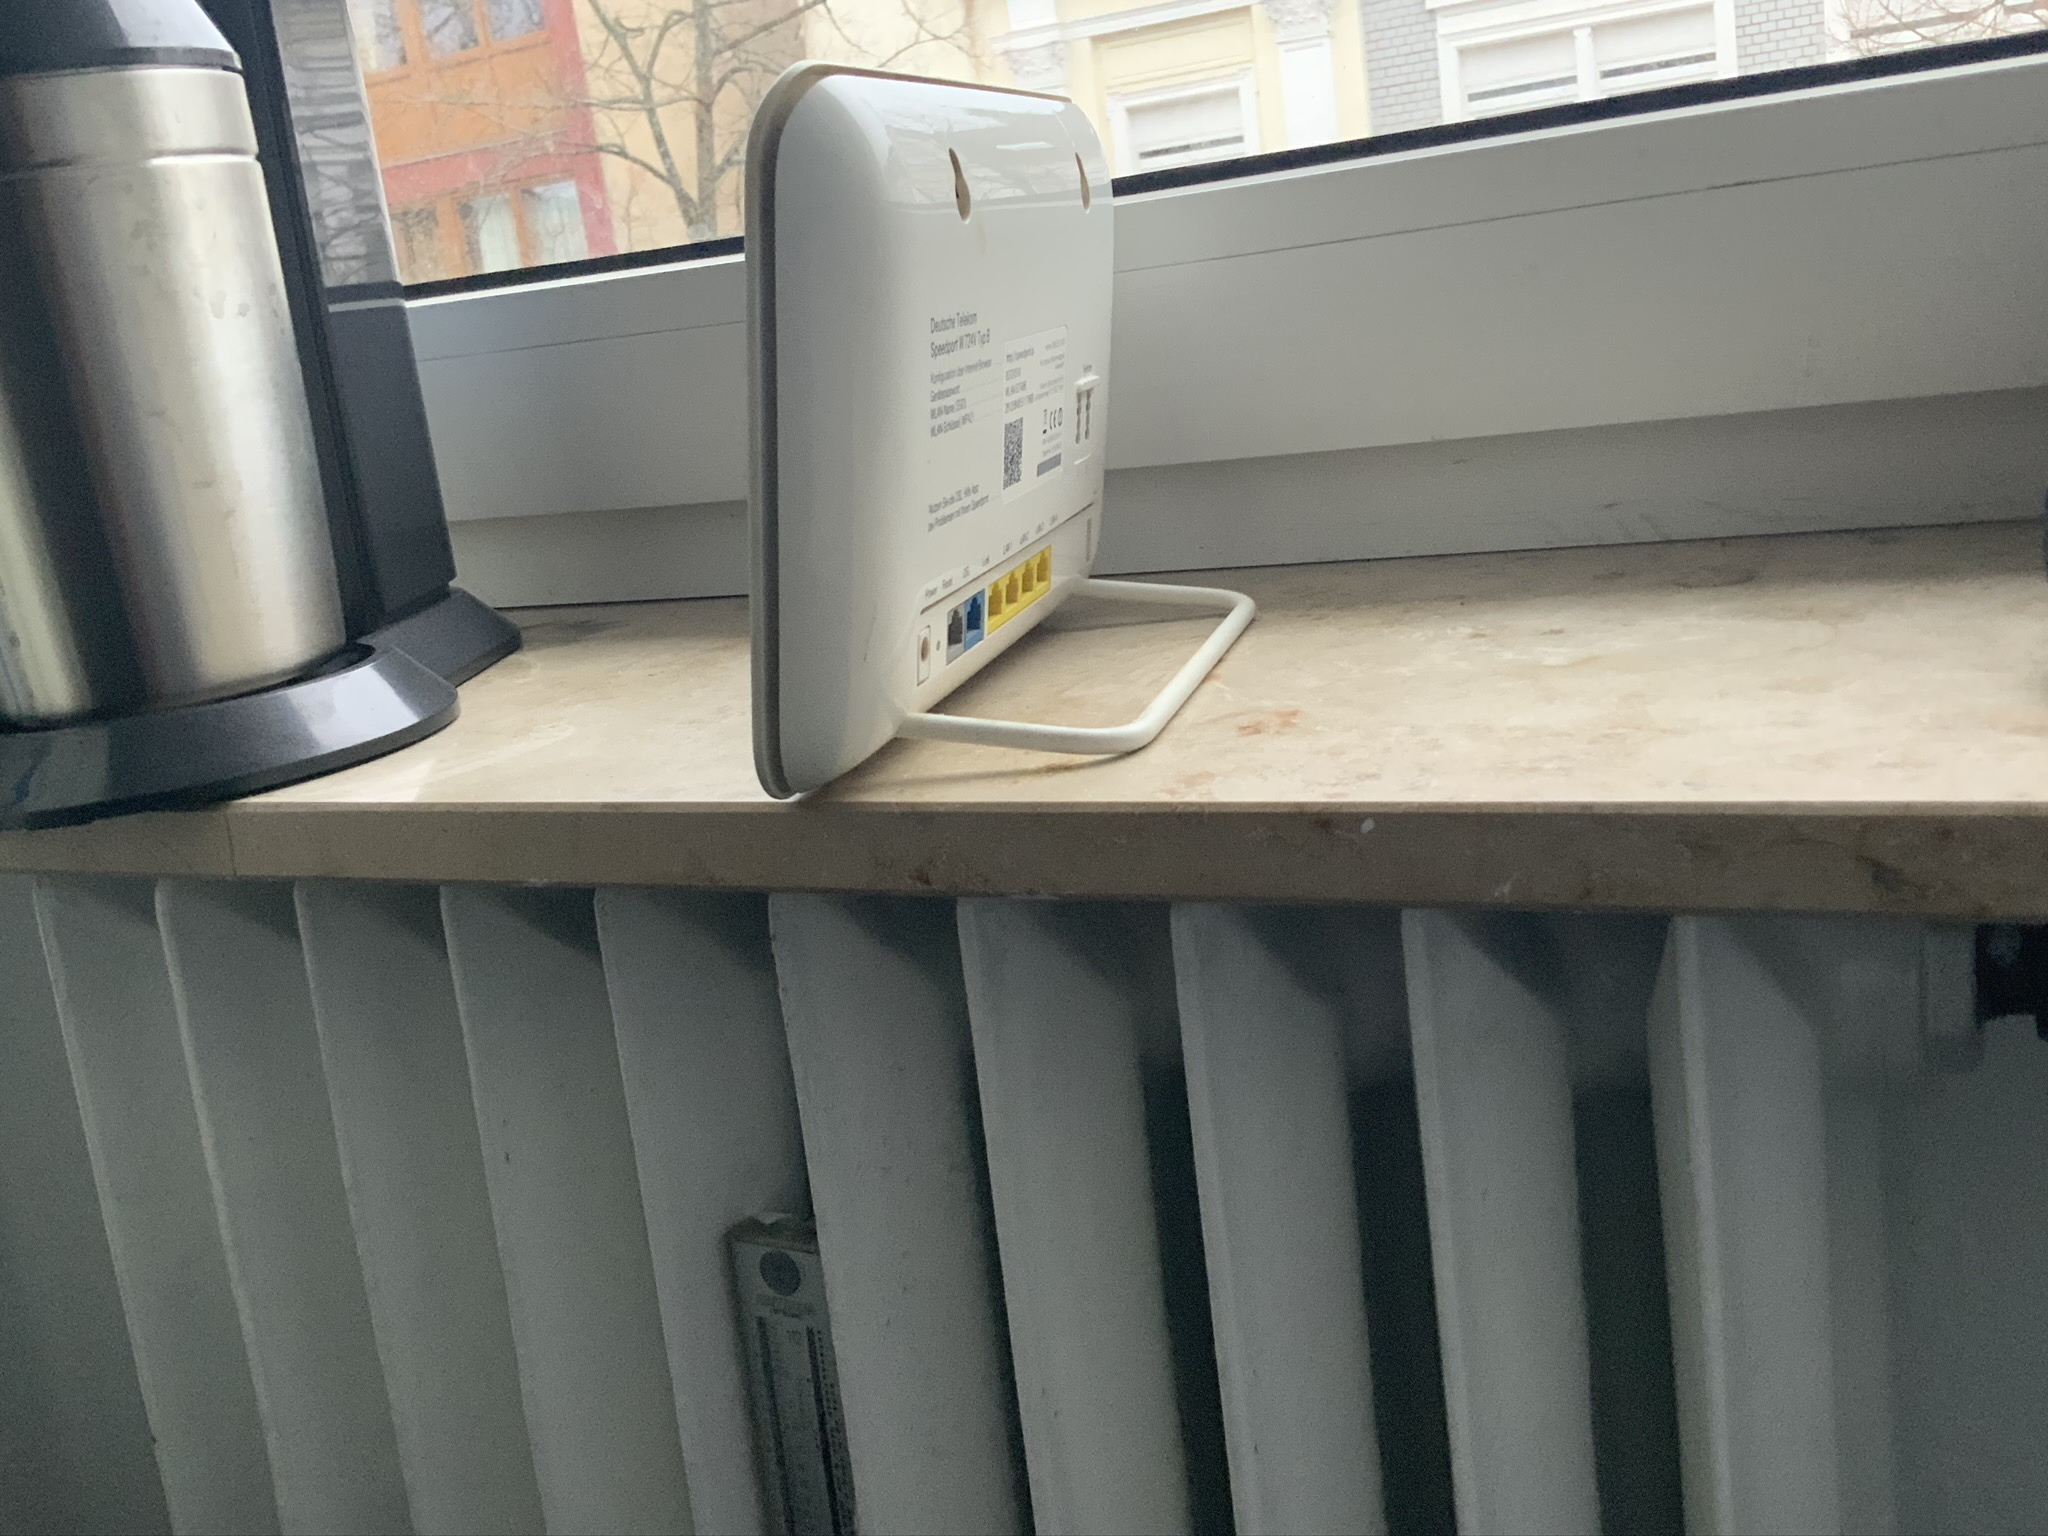router: (727, 53, 1114, 800)
